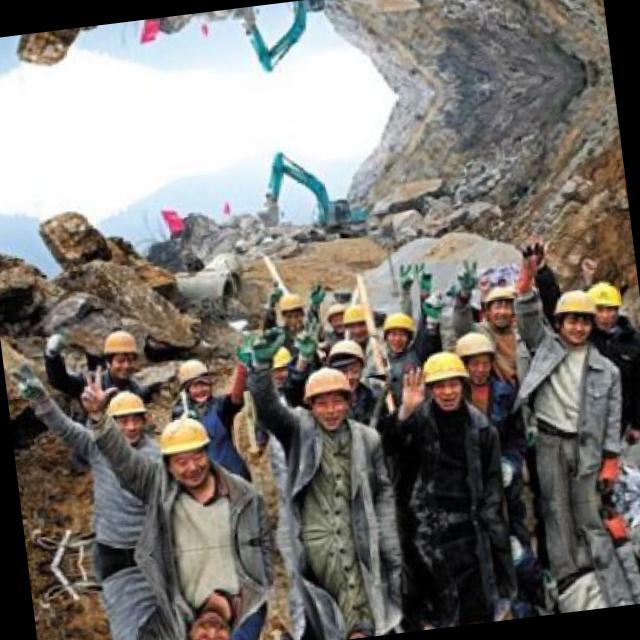helmet: (154, 406, 217, 491), (296, 360, 356, 430), (418, 346, 472, 410), (550, 284, 596, 342), (476, 274, 520, 334), (97, 323, 141, 378), (454, 329, 499, 381), (322, 334, 370, 382), (104, 386, 148, 438), (177, 605, 238, 640), (584, 276, 625, 328), (376, 307, 418, 354), (176, 355, 214, 402), (255, 342, 293, 384), (275, 287, 310, 329), (338, 300, 374, 340)
